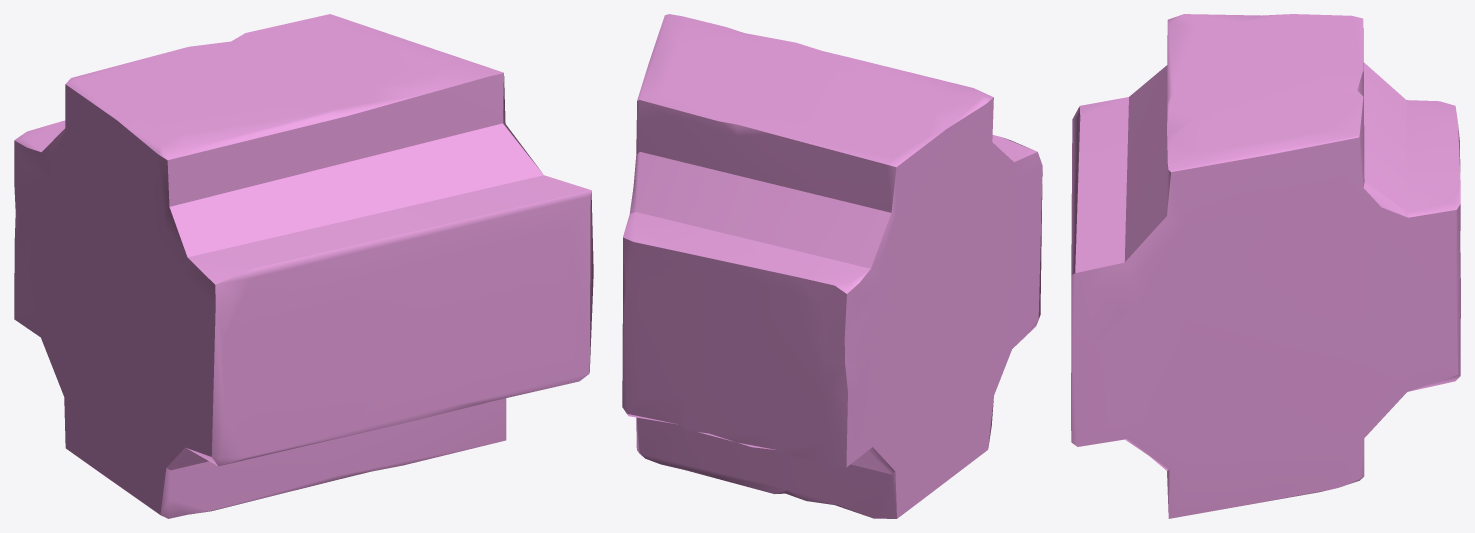
The model's file is stone_element_07a.fbx.
3 renders of one model, left to right at view 1: azimuth 30°, elevation 25°; view 2: azimuth 150°, elevation 25°; view 3: azimuth 270°, elevation 25°, orthographic. The views are drawn at different scales.
Visible parts, largest first — view 1: stone_element_07a_LOD0; view 2: stone_element_07a_LOD0; view 3: stone_element_07a_LOD0.
Boxes of the visible parts, x1,y1,x2,y2 form: stone_element_07a_LOD0: (14,14,593,518); stone_element_07a_LOD0: (622,14,1042,518); stone_element_07a_LOD0: (1071,14,1460,518).
Size of what is drawn, in the model's own units: 122 by 116 by 116.
